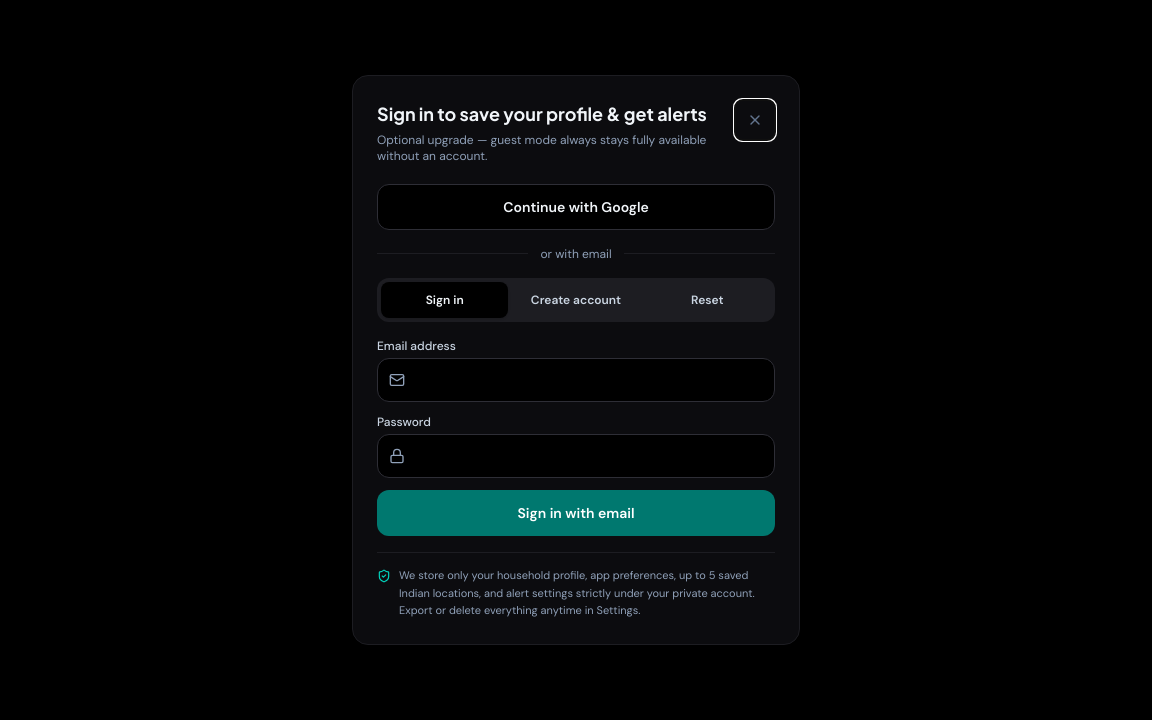
it: Components Deep 100% Coverage Suite › covers AuthModal Google button and Google error handling
The image size is (1152, 720).
Click the button "Continue with Google": (576,207) [377,184,775,230]
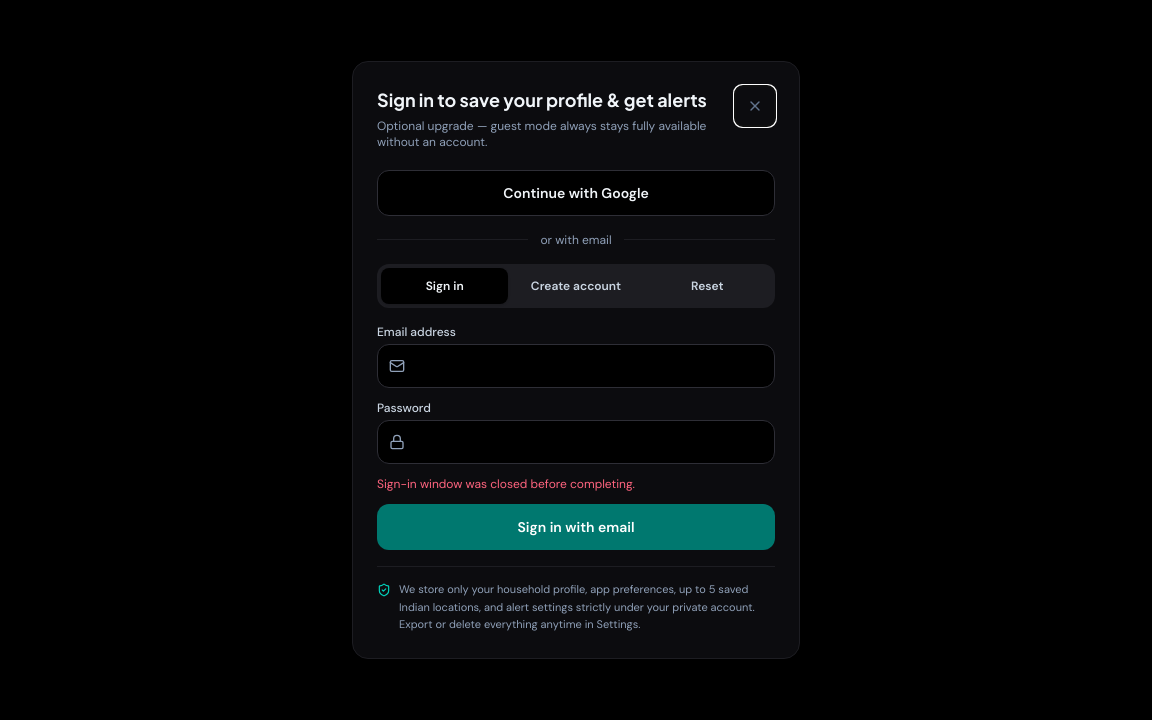
Expected: the text "Sign-in window was closed before completing." is shown, [377,476,635,492]
